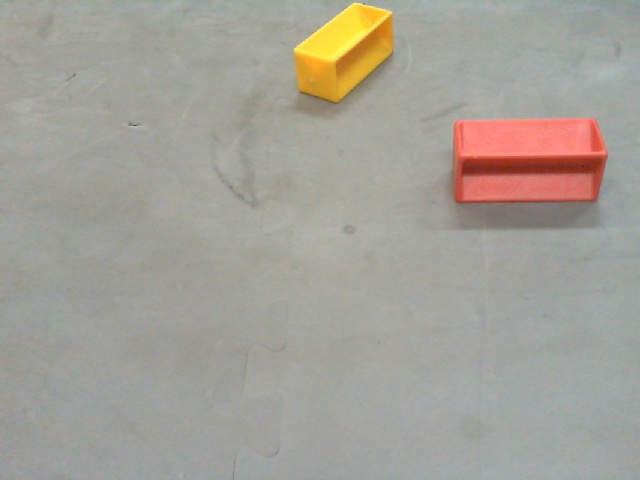RedSample: (453, 116, 610, 205)
YellowSample: (290, 1, 394, 105)
